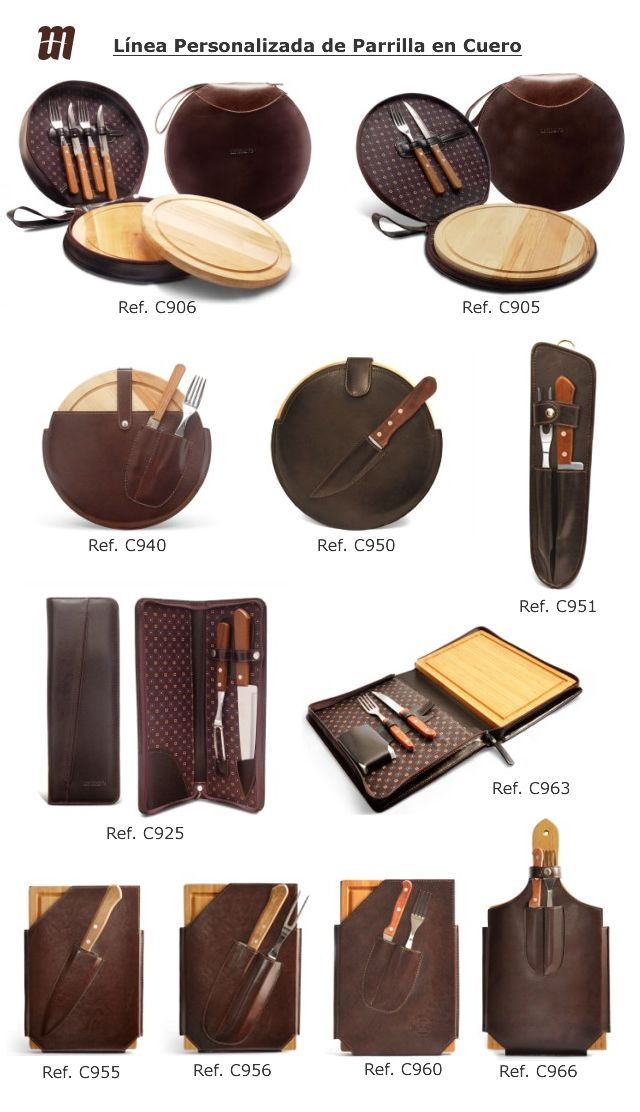cuero: (9, 75, 625, 1052)
